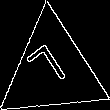L_SE: (27, 40, 77, 100)
